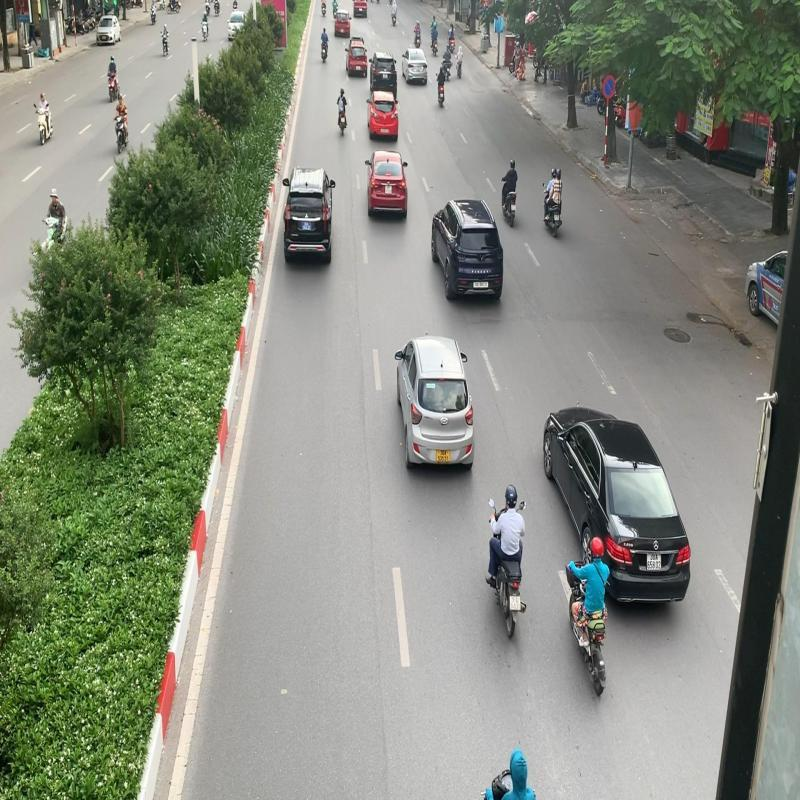helmet: (504, 485, 519, 508)
licenseplate: (509, 595, 521, 610)
motorcyclist: (484, 483, 534, 638)
